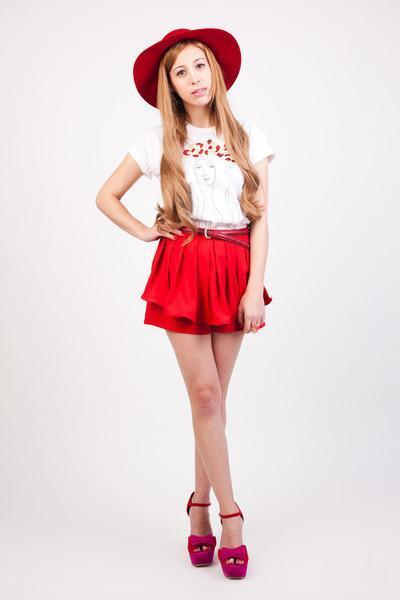hat: (133, 28, 240, 107)
shirt: (132, 122, 249, 236)
shoe: (188, 534, 248, 579)
skirt: (141, 232, 250, 347)
